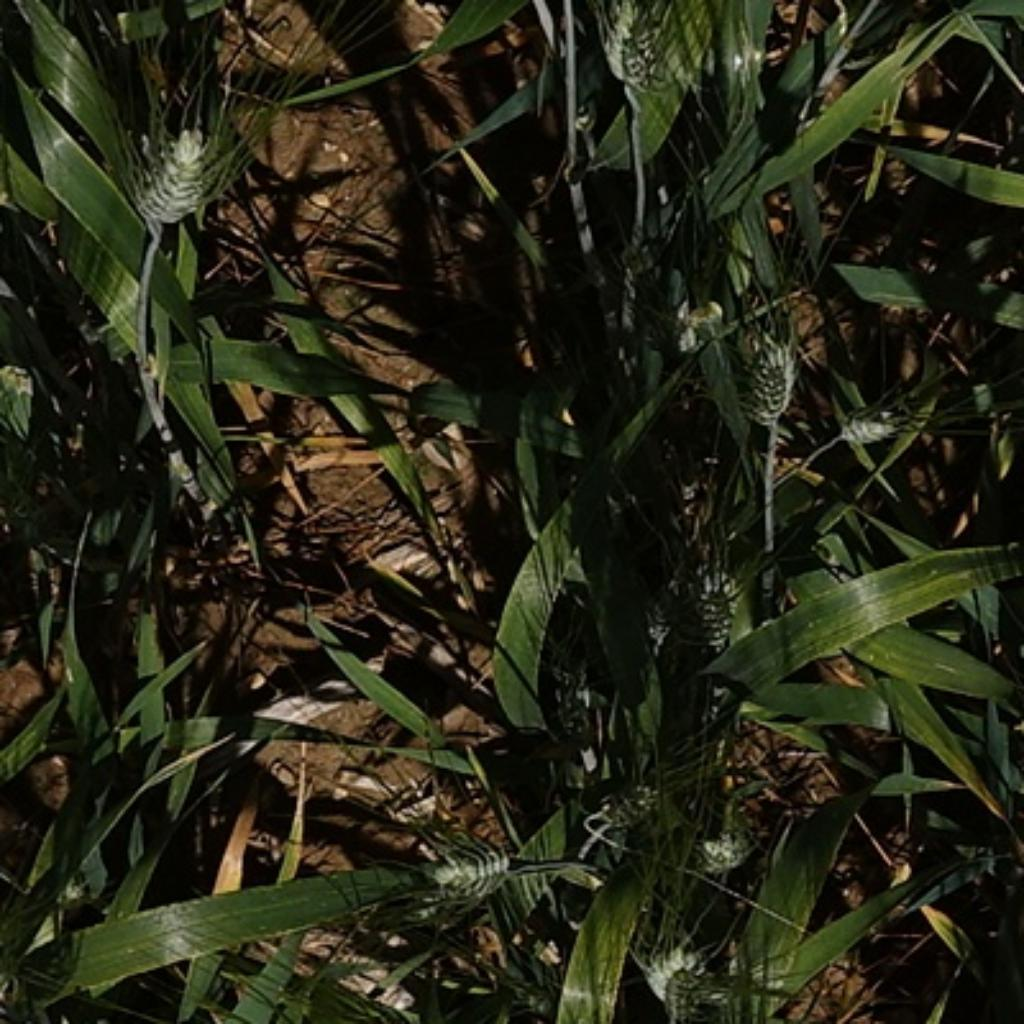0-0: (115, 102, 232, 225), (732, 286, 806, 440), (629, 929, 747, 1024), (391, 832, 517, 919), (586, 768, 691, 862), (586, 2, 680, 94), (686, 527, 744, 665), (691, 793, 780, 872), (832, 386, 911, 445)
